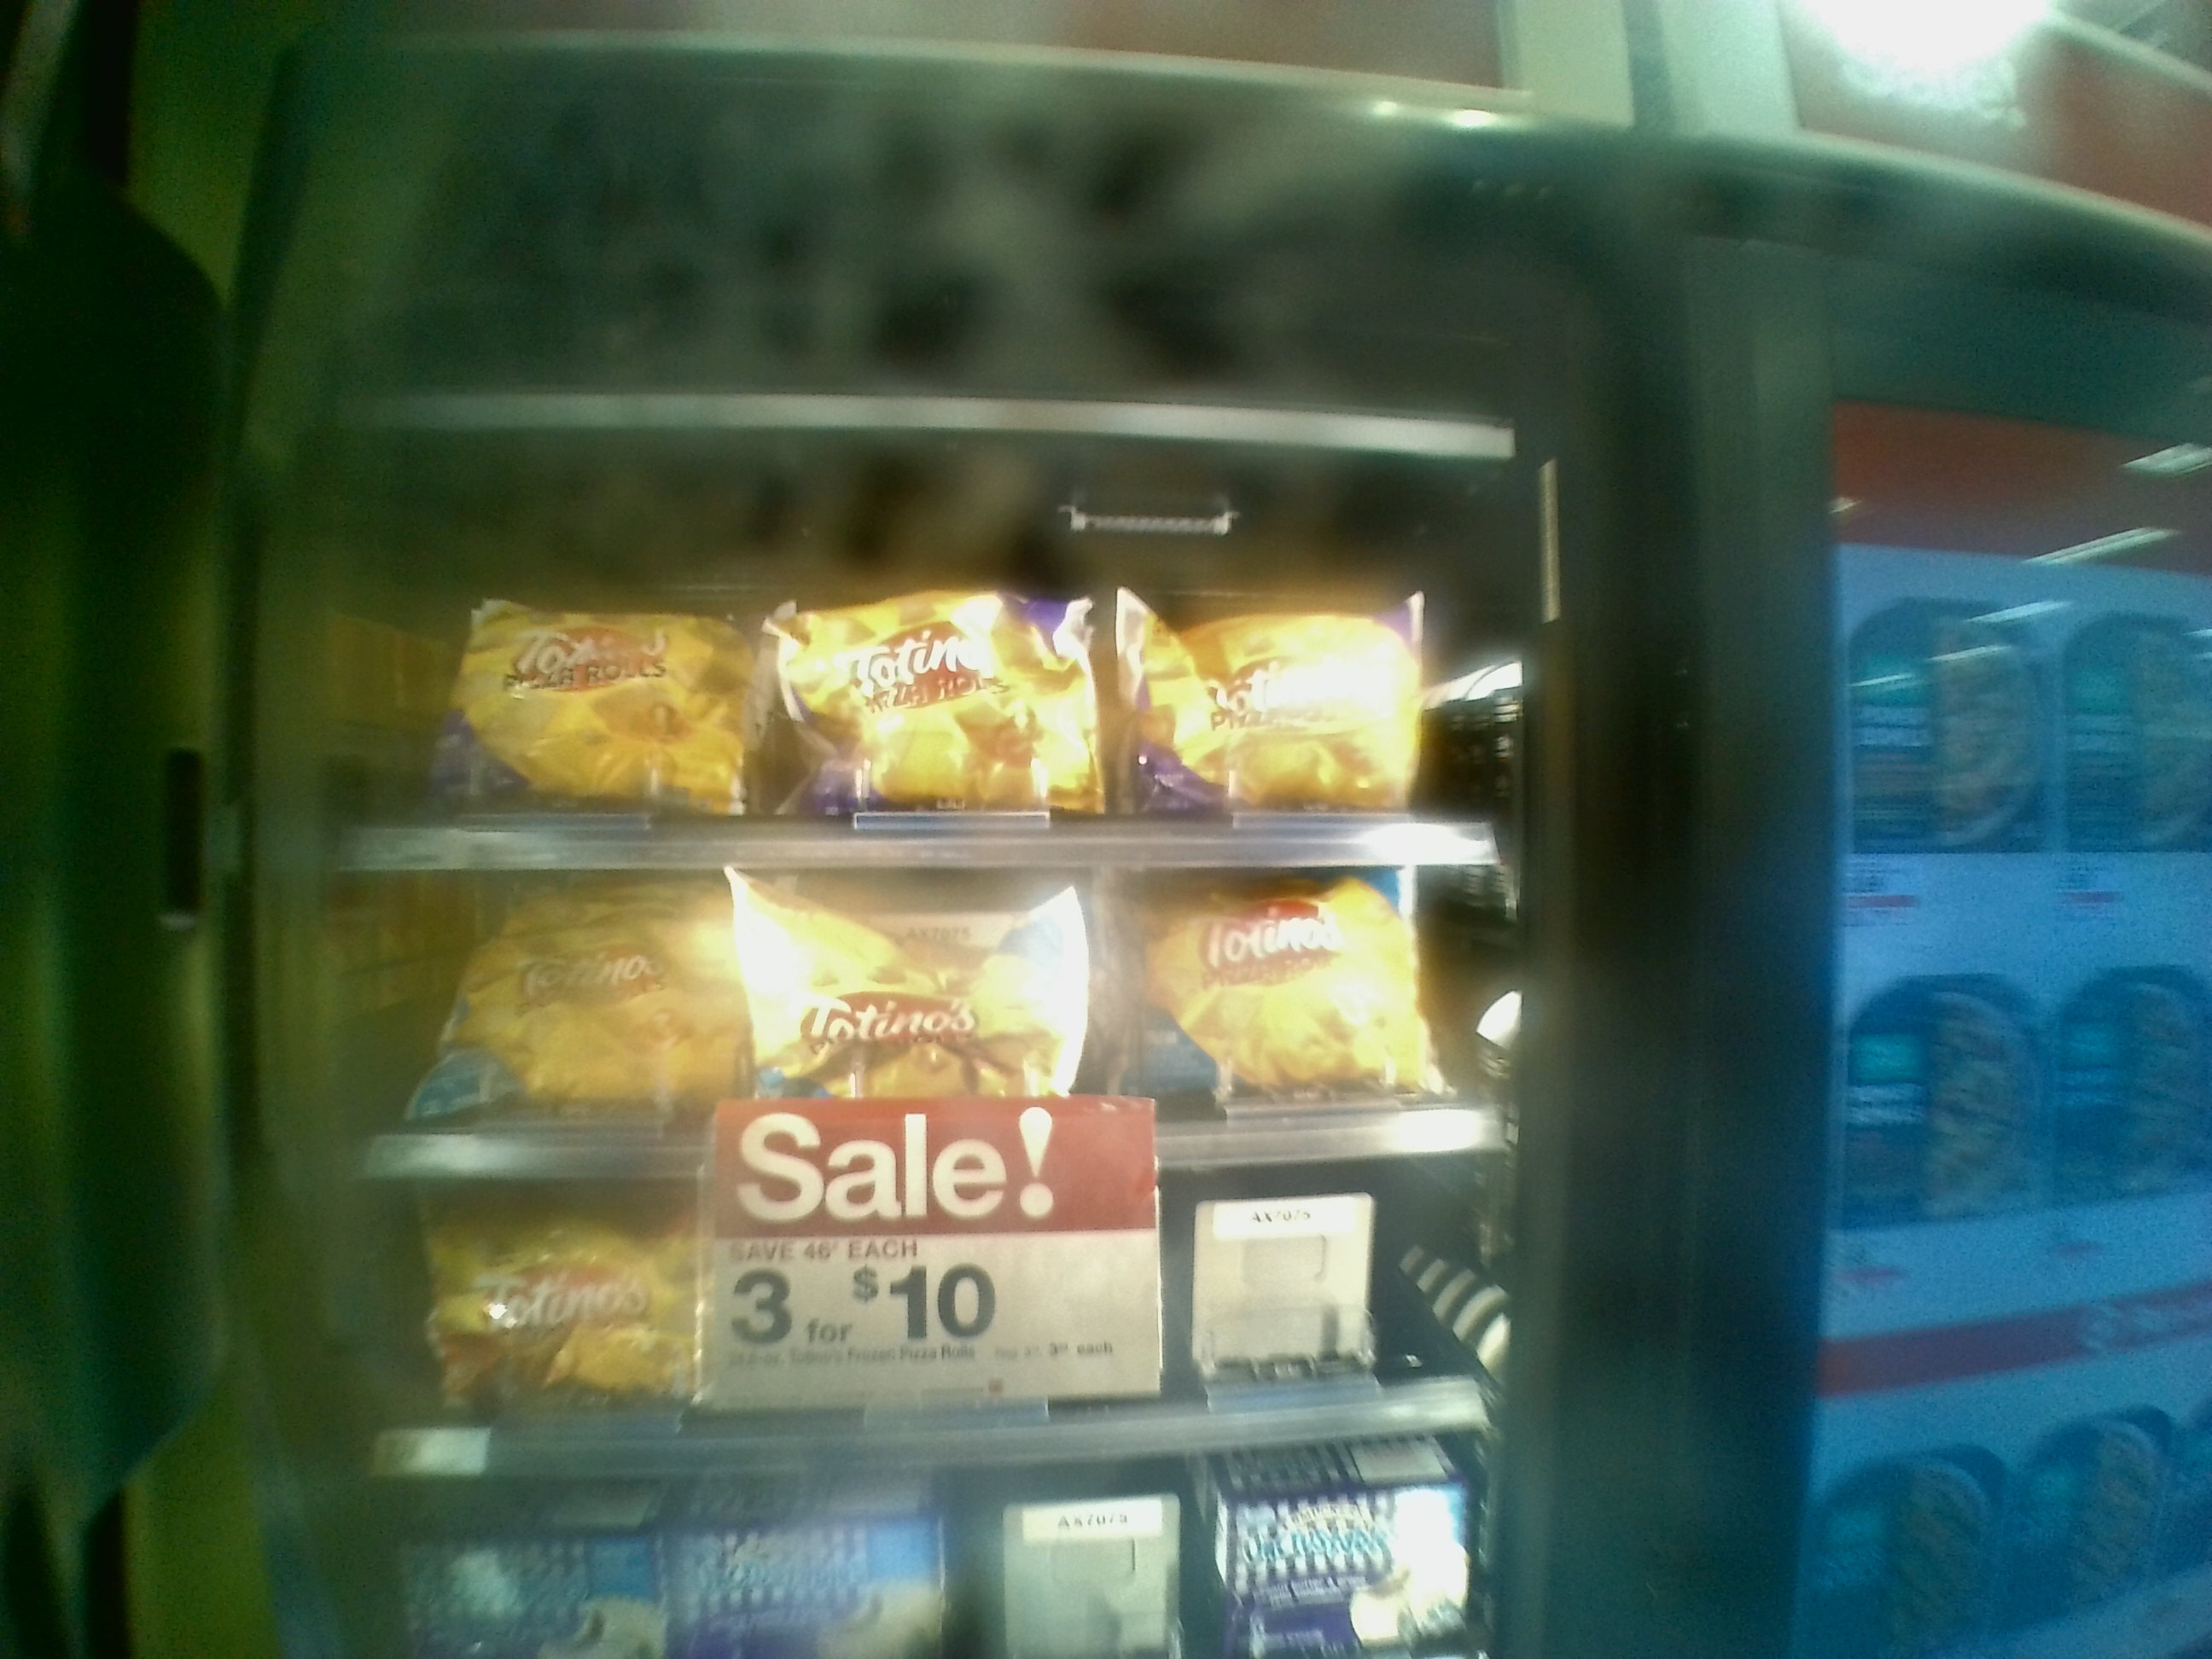shelf: (291, 486, 1527, 835), (298, 838, 1536, 1171), (319, 1171, 1486, 1446)
